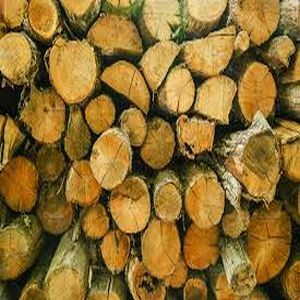log: (44, 37, 101, 103), (248, 202, 292, 282), (19, 87, 70, 150), (235, 132, 282, 199), (99, 64, 152, 117), (107, 176, 150, 233), (238, 61, 275, 126), (89, 132, 131, 188), (183, 30, 233, 76), (185, 174, 225, 230), (139, 222, 180, 276), (138, 40, 181, 91), (90, 16, 142, 57), (194, 76, 236, 126), (182, 223, 225, 270), (37, 185, 74, 239), (235, 1, 280, 44), (2, 158, 39, 210), (141, 119, 178, 169), (1, 33, 35, 85), (177, 117, 219, 159), (63, 160, 101, 206), (140, 1, 182, 42), (41, 264, 88, 300), (63, 106, 90, 163), (99, 231, 132, 277), (1, 226, 29, 279), (32, 142, 67, 183), (153, 181, 183, 224), (229, 261, 262, 299), (79, 205, 109, 245), (28, 1, 58, 40), (119, 106, 146, 149), (85, 96, 115, 134), (186, 1, 230, 23), (222, 206, 249, 240), (233, 32, 251, 55)
